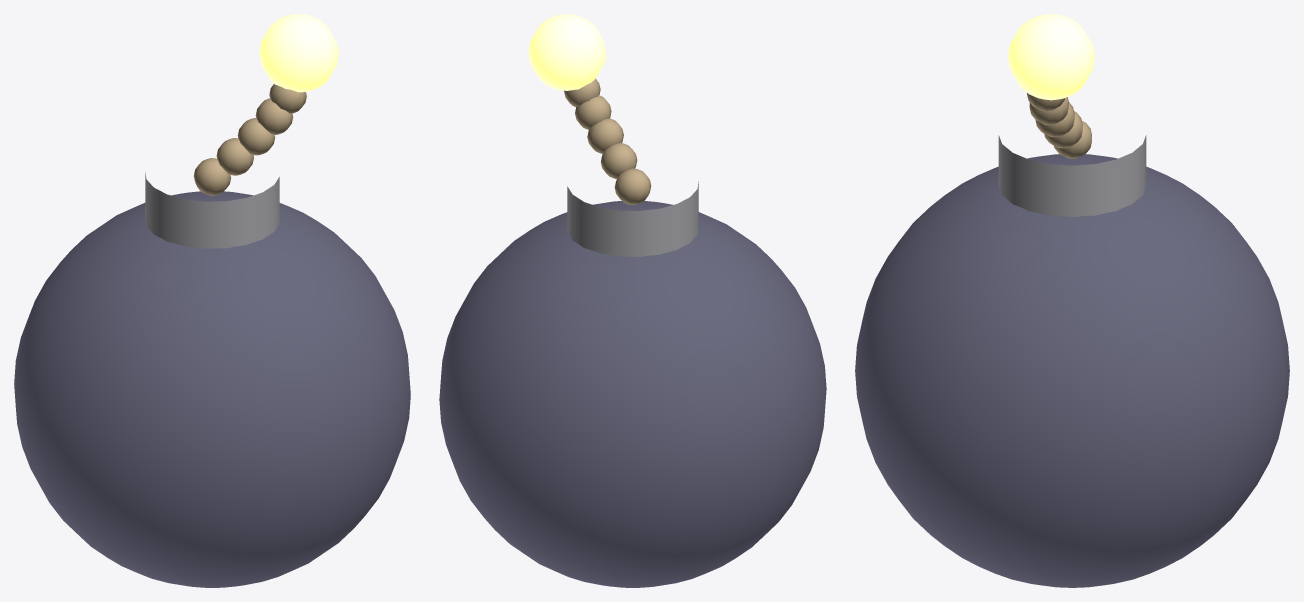
Rendered from bomb.glb.
3 renders of one model, left to right at view 1: azimuth 30°, elevation 25°; view 2: azimuth 150°, elevation 25°; view 3: azimuth 270°, elevation 25°, orthographic. The views are drawn at different scales.
Visible parts, largest first — view 1: bomb; view 2: bomb; view 3: bomb.
Part boxes in pixels (box(x1,y1,x2,y2)): bomb: box(14, 14, 410, 587); bomb: box(439, 14, 826, 587); bomb: box(855, 14, 1289, 587).
Size of the model in its own units: 0.2 by 0.3 by 0.2.
